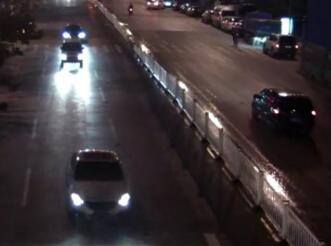car: (64, 148, 133, 226), (249, 85, 321, 136), (259, 31, 301, 57), (56, 35, 86, 67), (60, 20, 87, 42), (210, 5, 230, 29), (220, 14, 241, 33)
